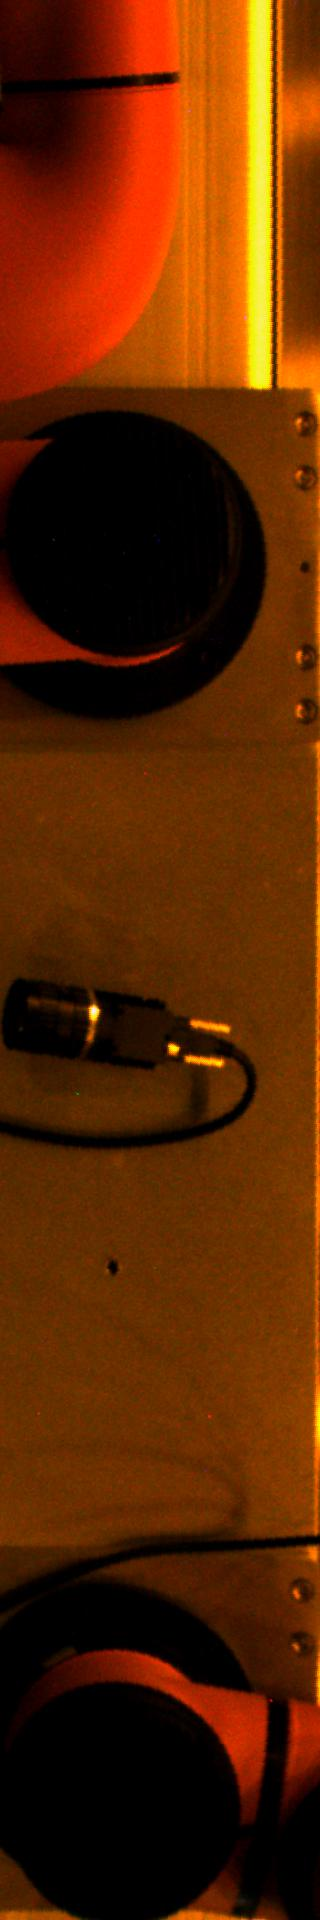keyPoint_2: (97, 1251, 128, 1282)
